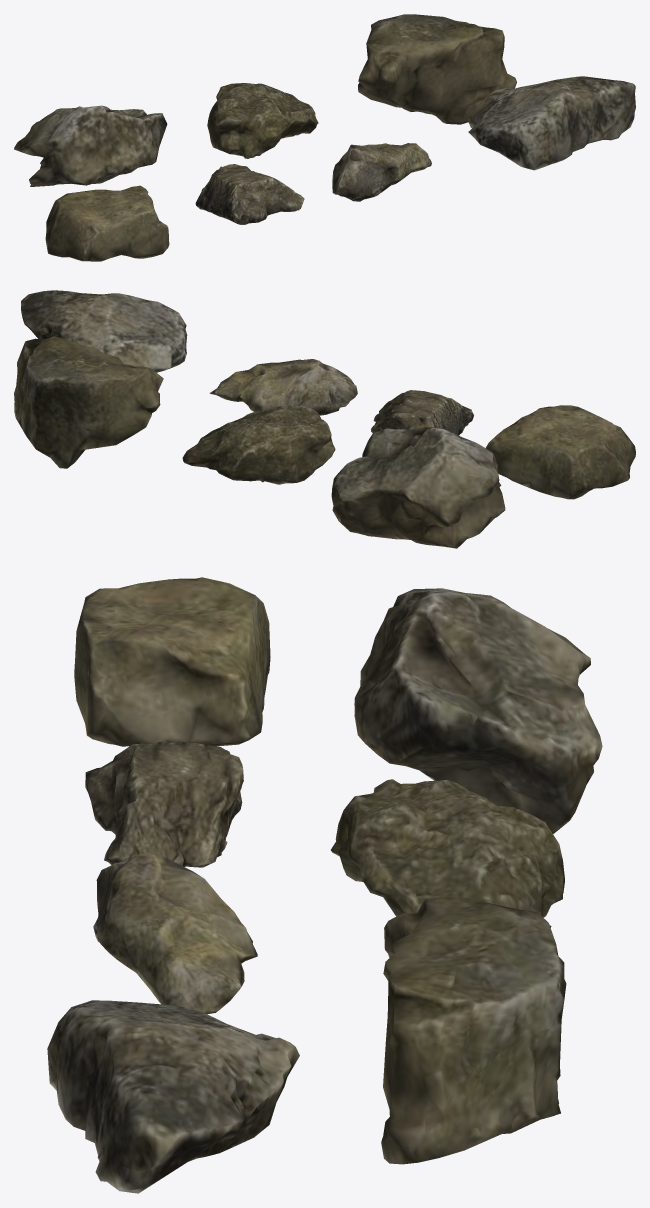
The model's file is ph_rock_moss_set_02.glb.
The picture shows the model from 3 angles, top to bottom: view 1: azimuth 30°, elevation 25°; view 2: azimuth 150°, elevation 25°; view 3: azimuth 270°, elevation 25°; orthographic projection. The views are drawn at different scales.
Parts seen in each view (by area): view 1: rock_moss_set_02_rock13, rock_moss_set_02_rock10, rock_moss_set_02_rock11, rock_moss_set_02_rock07, rock_moss_set_02_rock12, rock_moss_set_02_rock08, rock_moss_set_02_rock09; view 2: rock_moss_set_02_rock11, rock_moss_set_02_rock13, rock_moss_set_02_rock07, rock_moss_set_02_rock10, rock_moss_set_02_rock12, rock_moss_set_02_rock09, rock_moss_set_02_rock08; view 3: rock_moss_set_02_rock13, rock_moss_set_02_rock11, rock_moss_set_02_rock10, rock_moss_set_02_rock07, rock_moss_set_02_rock12, rock_moss_set_02_rock09, rock_moss_set_02_rock08.
Part boxes in pixels (box(x1,y1,x2,y2)): rock_moss_set_02_rock13: box(358, 14, 516, 124); rock_moss_set_02_rock10: box(468, 76, 635, 170); rock_moss_set_02_rock11: box(14, 105, 167, 186); rock_moss_set_02_rock07: box(45, 185, 169, 261); rock_moss_set_02_rock12: box(207, 83, 318, 158); rock_moss_set_02_rock08: box(195, 164, 304, 224); rock_moss_set_02_rock09: box(332, 143, 431, 201); rock_moss_set_02_rock11: box(331, 426, 505, 548); rock_moss_set_02_rock13: box(14, 336, 163, 468); rock_moss_set_02_rock07: box(486, 405, 635, 499); rock_moss_set_02_rock10: box(21, 290, 187, 372); rock_moss_set_02_rock12: box(182, 406, 335, 484); rock_moss_set_02_rock09: box(210, 359, 357, 415); rock_moss_set_02_rock08: box(371, 390, 473, 435); rock_moss_set_02_rock13: box(381, 895, 566, 1164); rock_moss_set_02_rock11: box(354, 588, 602, 833); rock_moss_set_02_rock10: box(47, 1000, 299, 1193); rock_moss_set_02_rock07: box(74, 577, 270, 746); rock_moss_set_02_rock12: box(331, 779, 564, 927); rock_moss_set_02_rock09: box(93, 852, 257, 1014); rock_moss_set_02_rock08: box(85, 741, 243, 867).
Bounding box in the file's own units: 8.28 × 1.36 × 3.41.
1 material, 1 textured.
